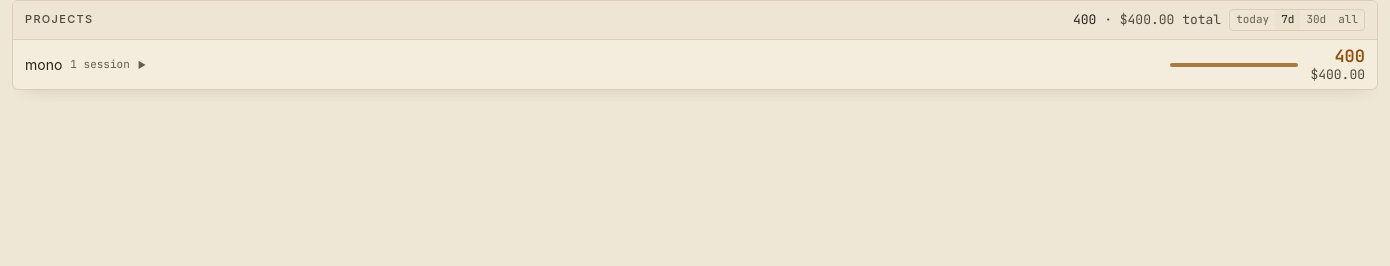
Test: ProjectsPanel figures › expands one level at a time rather than listing every directory at once
Click the button titled "mono: show cost by directory". click: (44,64)
box: [13,40,1377,89]
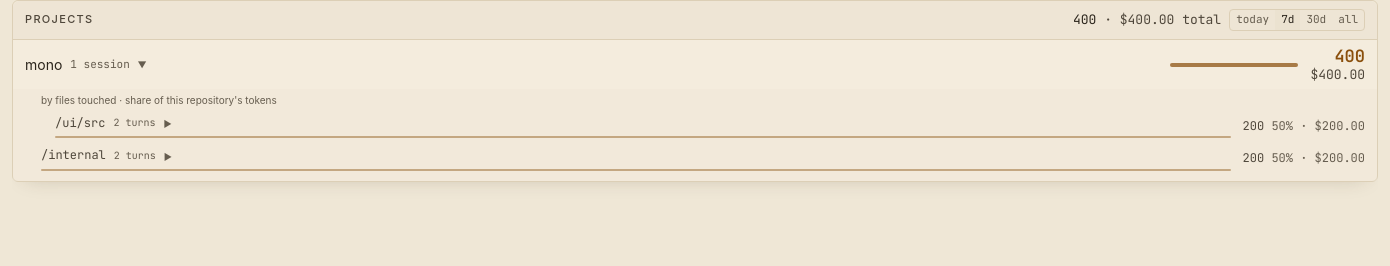
Check: the text "/ui/src/components" is not shown
Check: the text "/ui/src" is shown, box [55,115,105,132]
Check: the text "/internal" is shown, box [41,147,106,165]
// A second expansion reveals what is inside one of them, and only that one.
Click the button titled "/ui/src: show the directories inside it". click: (80,123)
box: [13,111,1377,142]
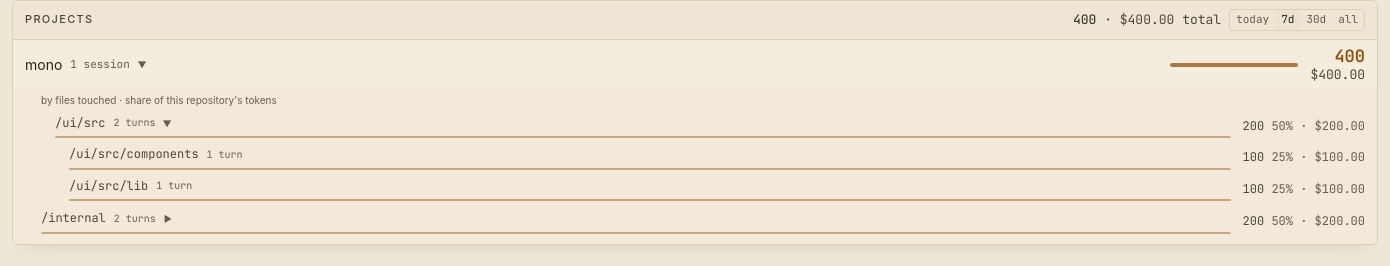
Check: the text "/ui/src/components" is shown, box [69,146,199,164]
Check: the text "/ui/src/lib" is shown, box [69,178,148,195]
